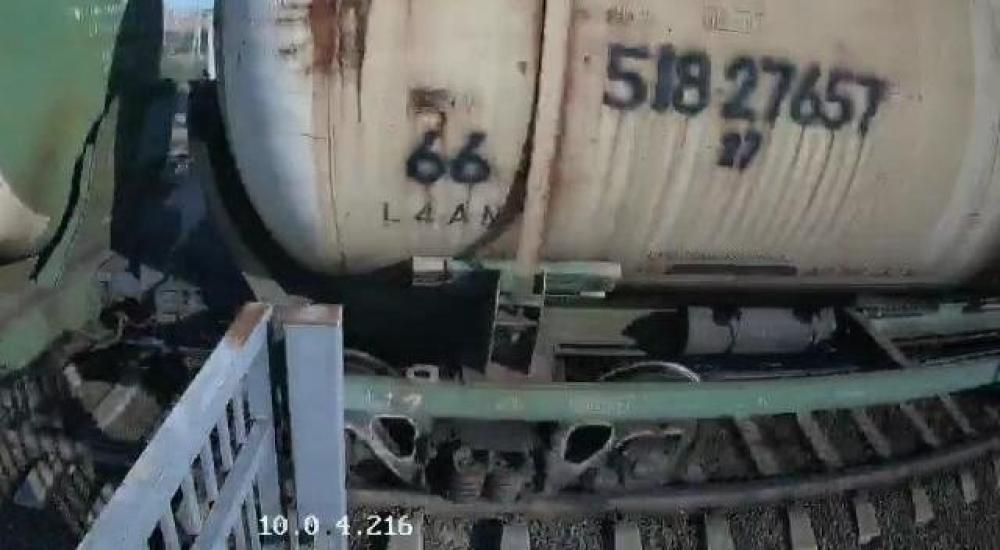Wagon-number: (595, 39, 892, 136)
